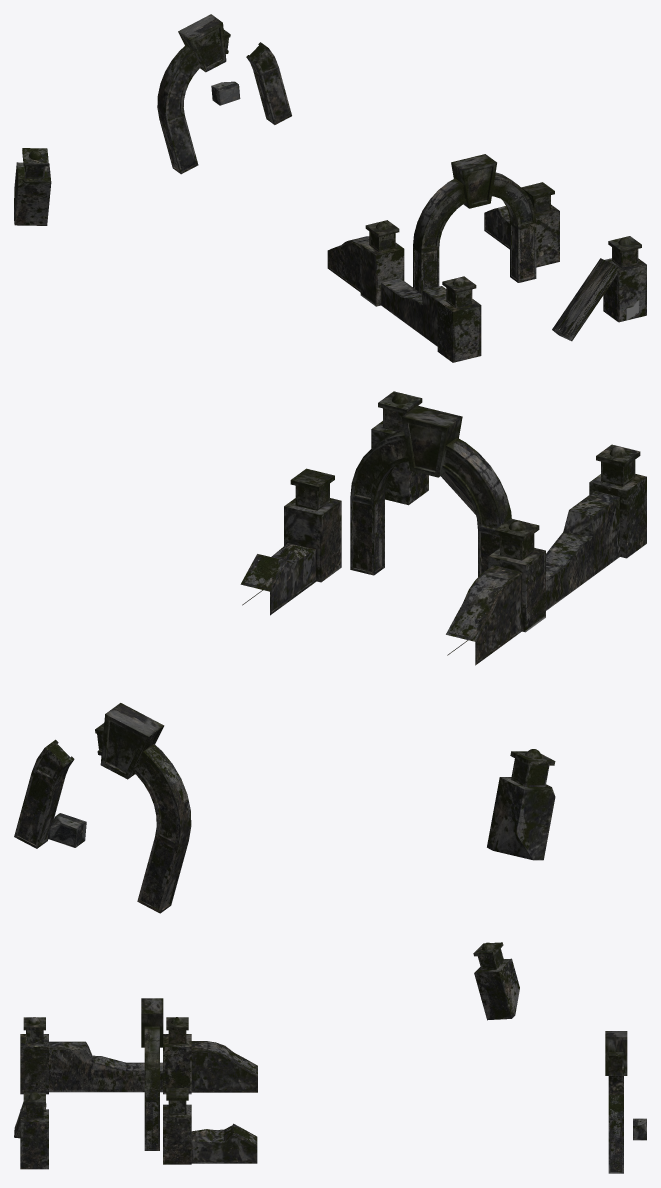
File: ruins2.glb
3 views of the same model, one above another, from view 1: azimuth 30°, elevation 25°; view 2: azimuth 150°, elevation 25°; view 3: azimuth 270°, elevation 25° (orthographic). The views are drawn at different scales.
Visible parts, largest first — view 1: node_Entrance_-3270; view 2: node_Entrance_-3270; view 3: node_Entrance_-3270.
Boxes of the visible parts, <box> form: node_Entrance_-3270: <box>14,14,646,362</box>; node_Entrance_-3270: <box>14,391,646,913</box>; node_Entrance_-3270: <box>14,942,646,1173</box>.
Bounding box in the file's own units: 54.38 × 24.87 × 85.27.
1 material, 1 textured.
